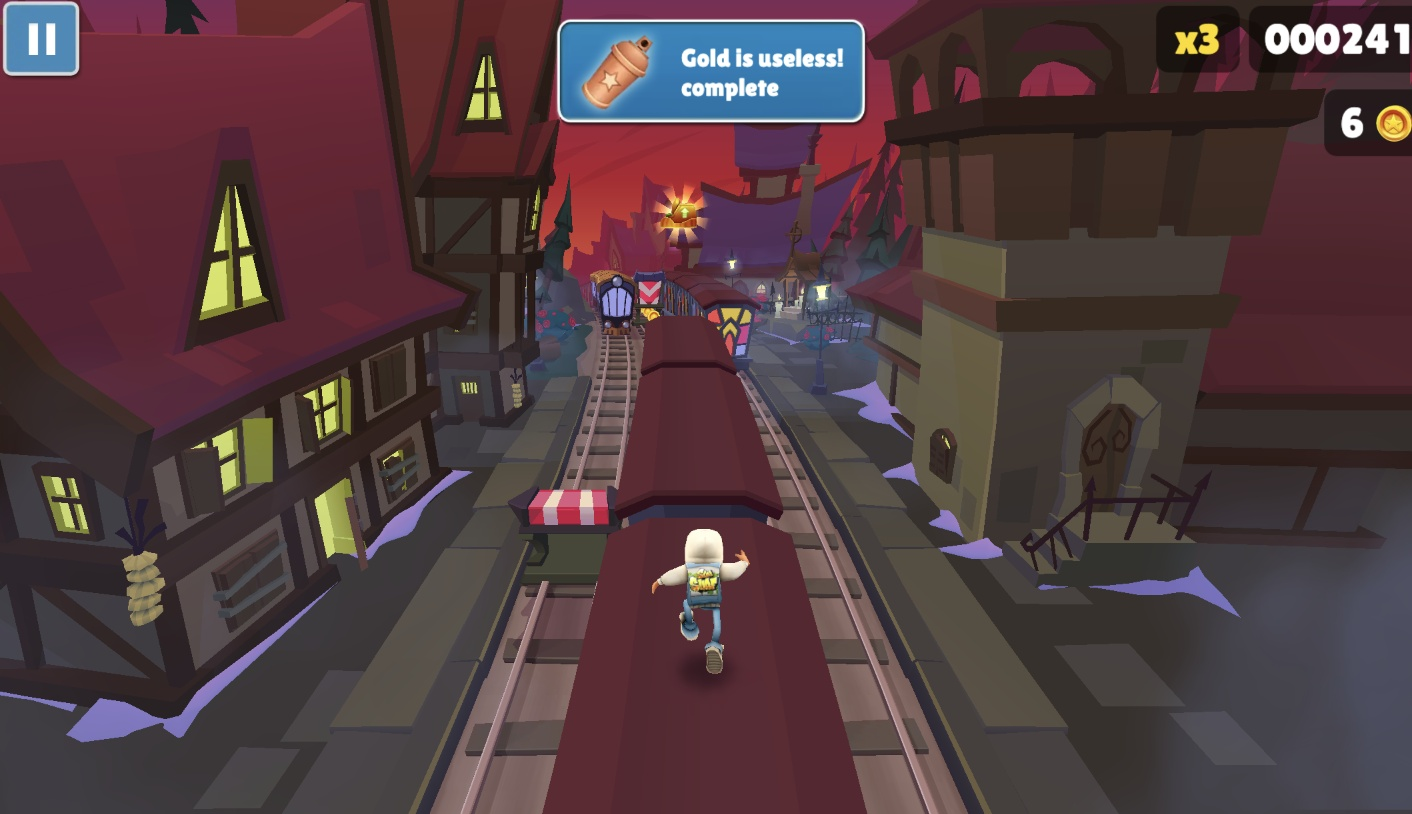ground_barrier: (507, 485, 622, 586)
overhead_barrier: (633, 270, 665, 323)
train: (543, 314, 867, 814), (666, 274, 764, 373), (588, 270, 637, 336)
